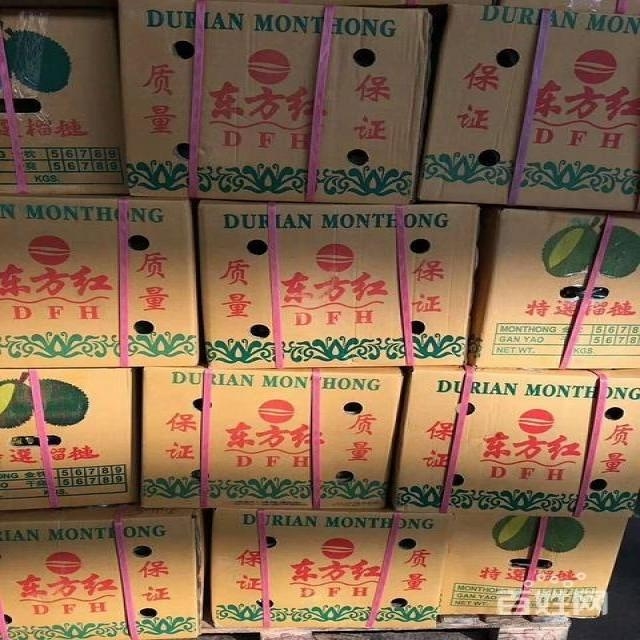box: (113, 0, 431, 202), (195, 201, 477, 367), (419, 4, 640, 210), (140, 367, 405, 509), (396, 366, 640, 520), (0, 194, 200, 369), (211, 509, 451, 631), (467, 210, 640, 371), (0, 503, 200, 640), (0, 14, 123, 195), (440, 514, 627, 620), (0, 369, 137, 512)
